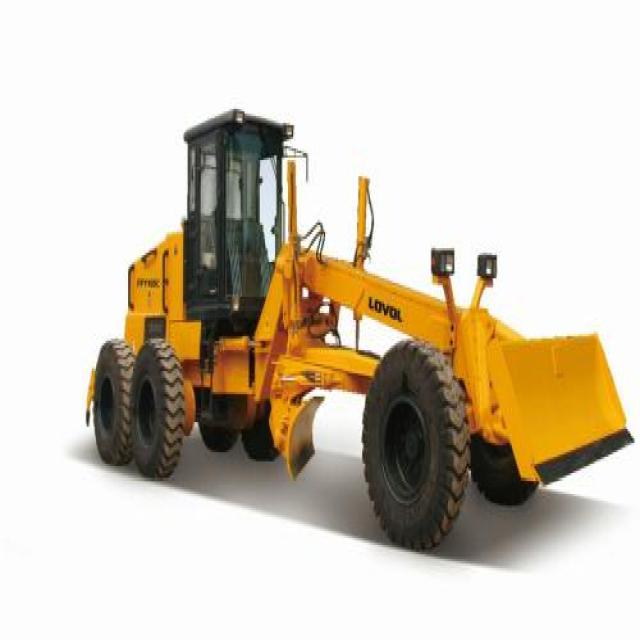buldozerpayloadergrader: (80, 83, 628, 573)
